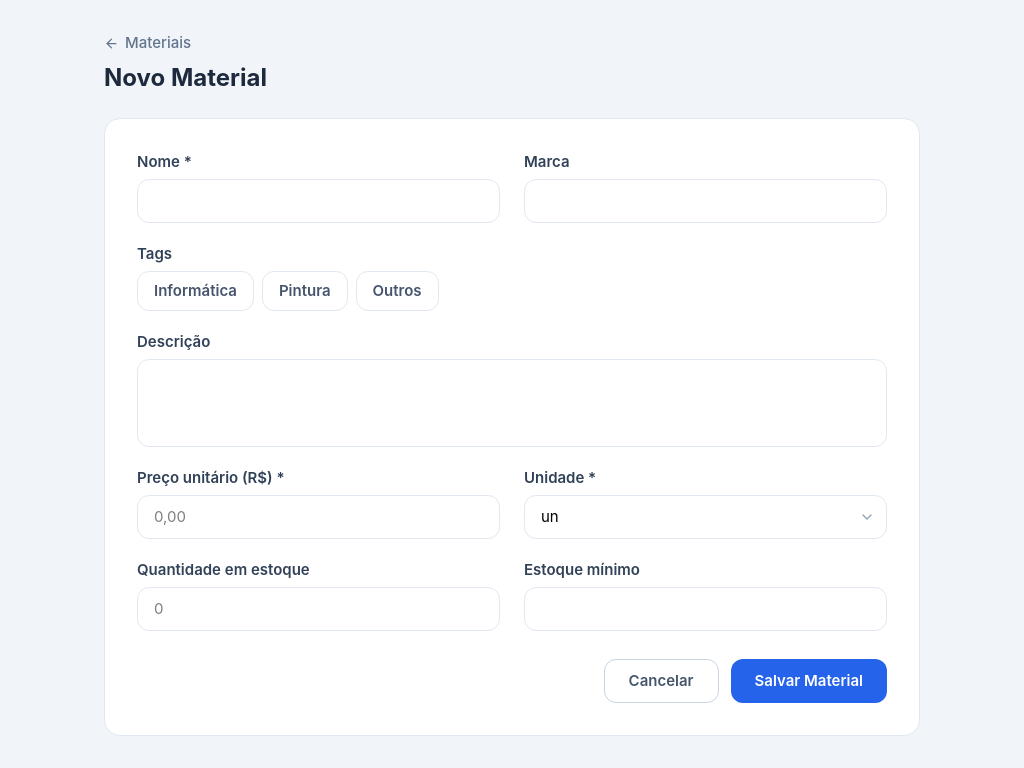
campo de marca do material › oferece cadastrar a marca digitada quando ela não existe
Type "Coral" into the field below "Marca" at (706, 201), box top-left (524, 179), bottom-right (887, 223)
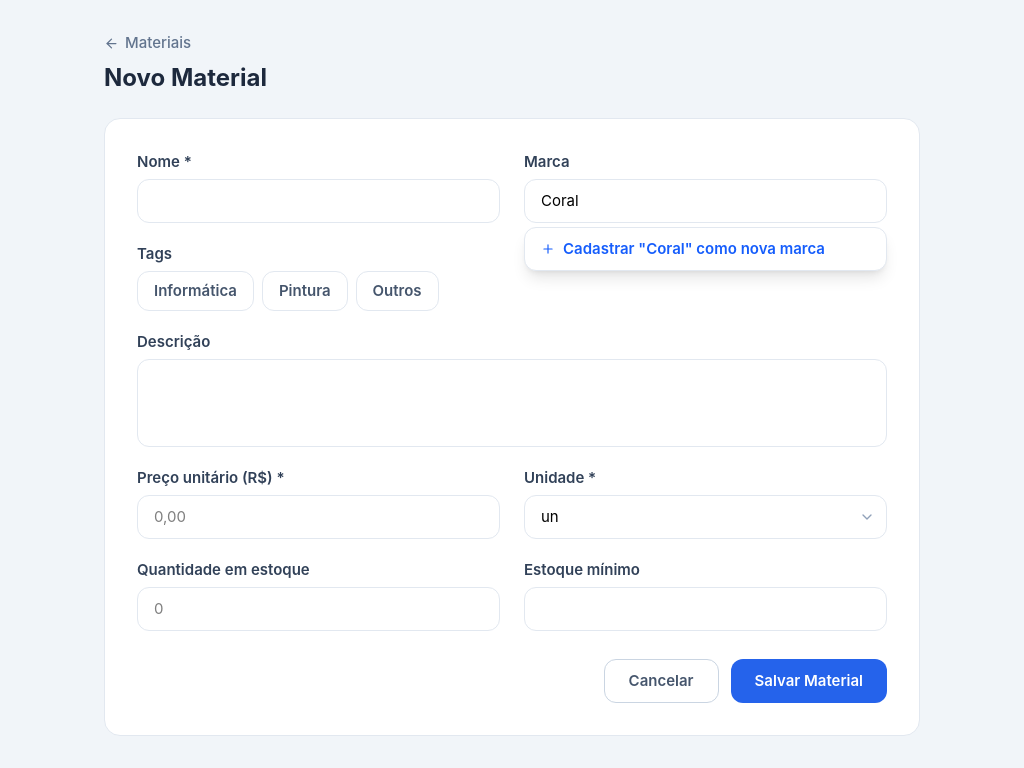
Press the mouse on the button "Cadastrar \"Coral\" como nova marca" at (706, 249), box top-left (525, 228), bottom-right (886, 270)
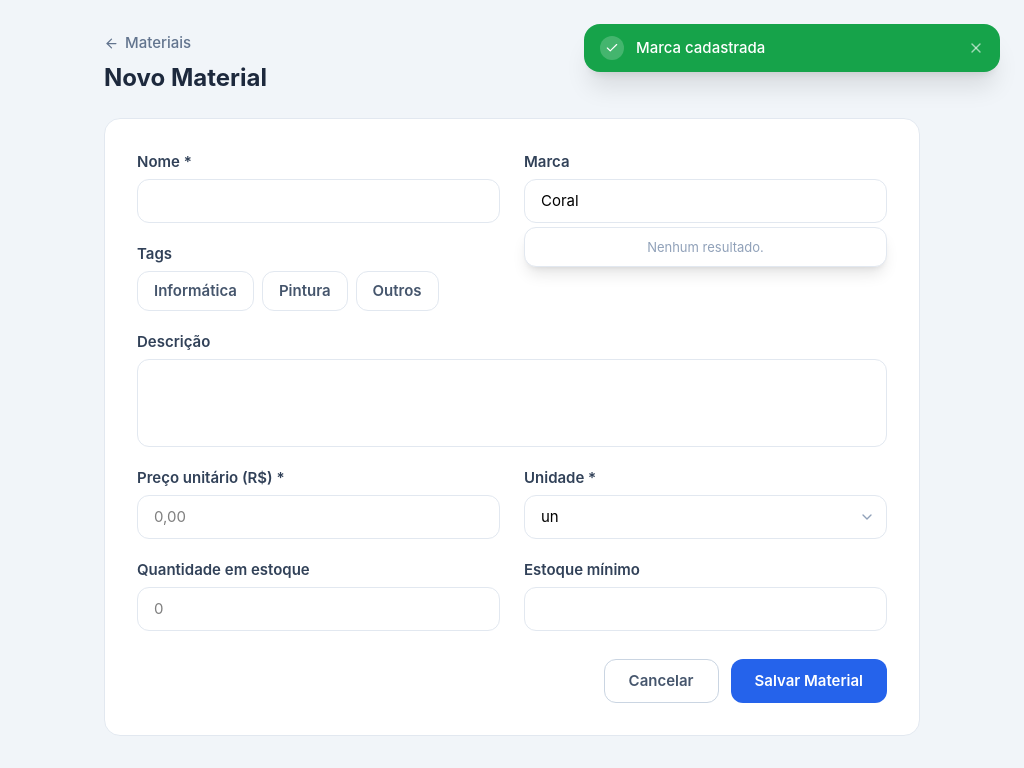
expect the text "Marca cadastrada" is shown: met, box top-left (636, 38), bottom-right (765, 57)
